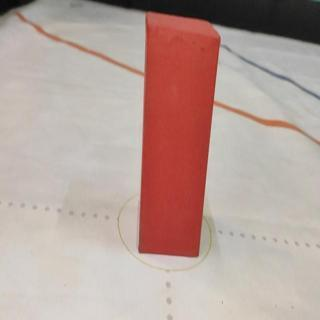redbox: (137, 11, 221, 257)
